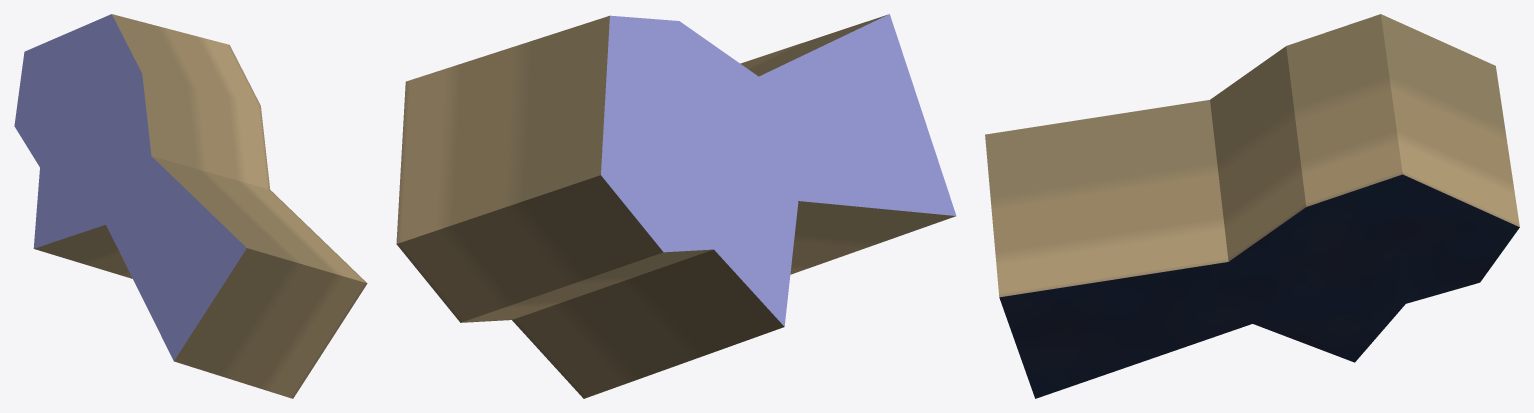
Rendered from 05f6_Ghana.glb.
The picture shows the model from 3 angles, left to right: view 1: azimuth 30°, elevation 25°; view 2: azimuth 150°, elevation 25°; view 3: azimuth 270°, elevation 25°; orthographic projection. The views are drawn at different scales.
Parts seen in each view (by area): view 1: part_0; view 2: part_0; view 3: part_0.
Part boxes in pixels (<box>): part_0: <box>14,14,367,398</box>; part_0: <box>396,14,956,398</box>; part_0: <box>985,14,1519,398</box>.
Size of the model in its own units: 0.3122 by 0.3894 by 0.524.
Materials: 1 (1 with a texture image).
